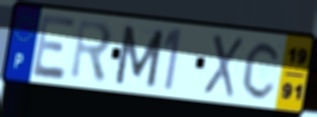1: (160, 26, 183, 94)
C: (240, 39, 284, 102)
E: (31, 12, 79, 82)
M: (112, 23, 167, 90)
R: (68, 17, 115, 86)
X: (201, 32, 244, 101)
